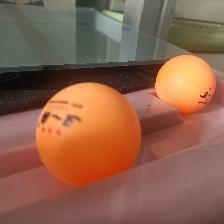YellowBall: (36, 82, 141, 189), (154, 54, 216, 115)
